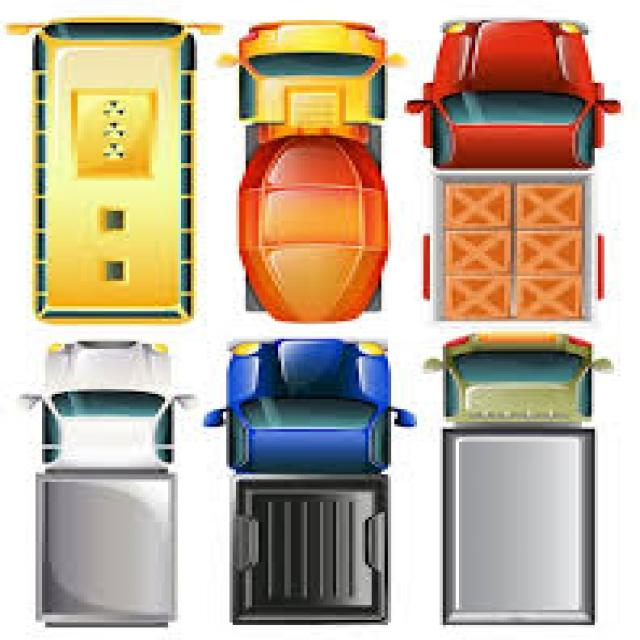truck: (33, 18, 197, 328), (433, 20, 595, 320), (226, 339, 393, 627), (444, 332, 597, 626), (236, 21, 384, 314), (39, 338, 176, 628)
